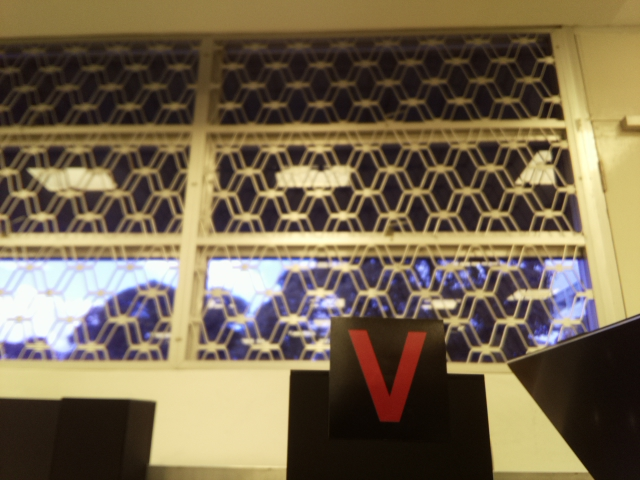v: (334, 318, 444, 428)
